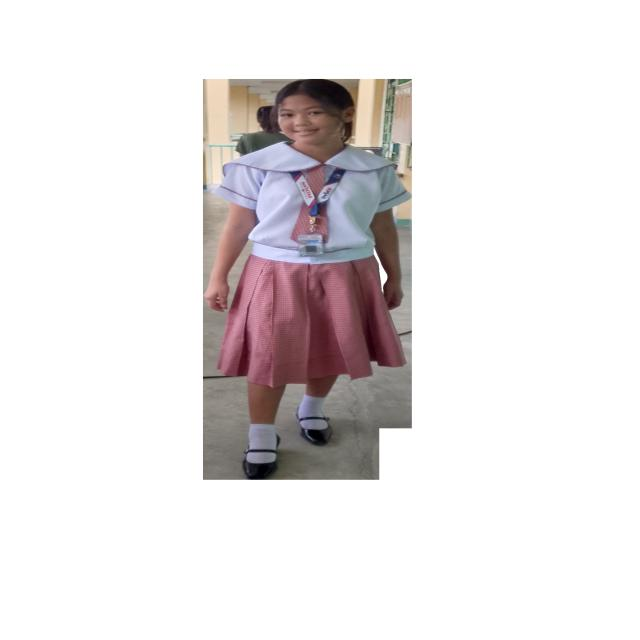id lace: (290, 168, 344, 227)
pologirl: (215, 142, 323, 263), (317, 146, 411, 262), (300, 166, 324, 196), (291, 202, 309, 240), (318, 213, 327, 242)
shoes: (242, 449, 276, 479), (301, 426, 331, 445)
skirt: (218, 255, 405, 387)
